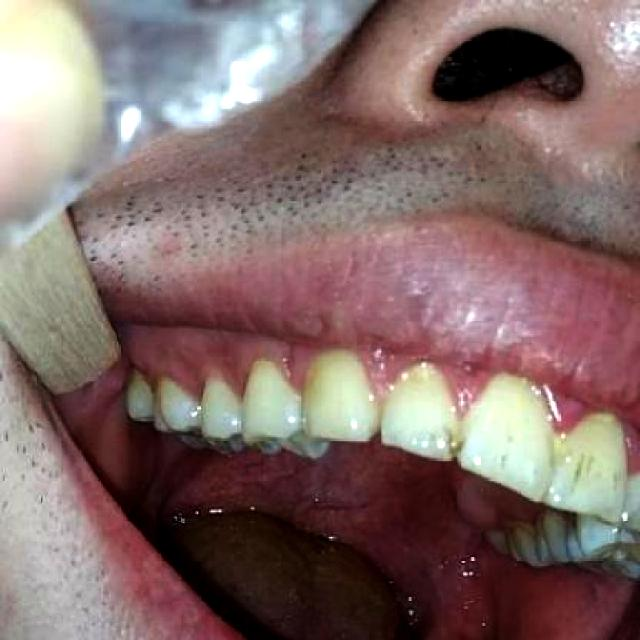Plaque: (380, 361, 459, 402), (197, 368, 236, 396), (151, 379, 194, 398), (126, 367, 150, 387)
